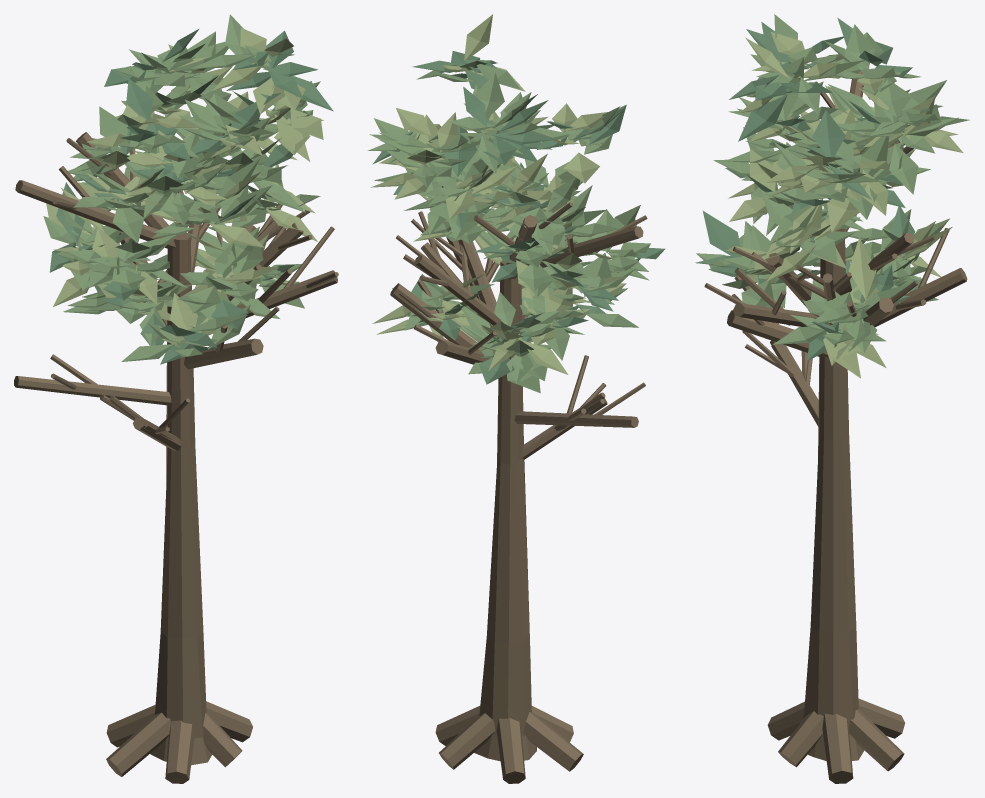
File: broadleaf_b.glb
3 renders of one model, left to right at view 1: azimuth 30°, elevation 25°; view 2: azimuth 150°, elevation 25°; view 3: azimuth 270°, elevation 25°, orthographic. The views are drawn at different scales.
Parts seen in each view (by area): view 1: broadleaf_b LOD0; view 2: broadleaf_b LOD0; view 3: broadleaf_b LOD0.
Boxes of the visible parts, x1,y1,x2,y2 form: broadleaf_b LOD0: (14,14,338,783); broadleaf_b LOD0: (367,14,665,783); broadleaf_b LOD0: (695,14,969,783).
Size of what is drawn, in the model's own units: 4.59 by 11 by 3.69.
